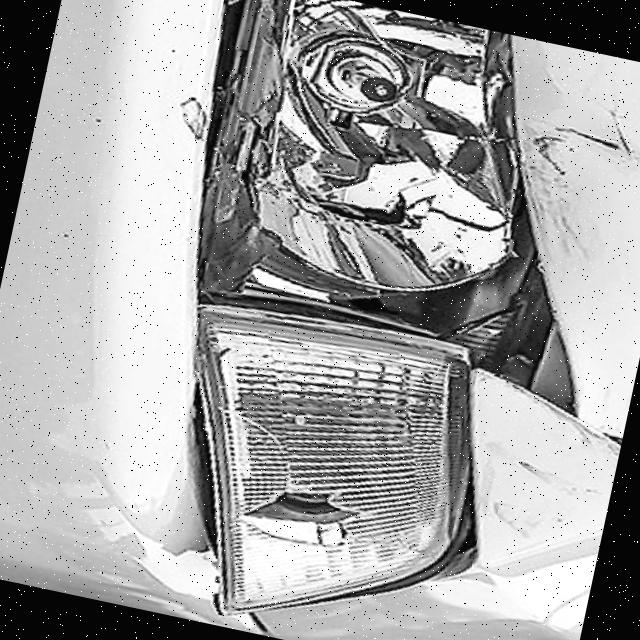Head Light: (97, 0, 558, 640)
